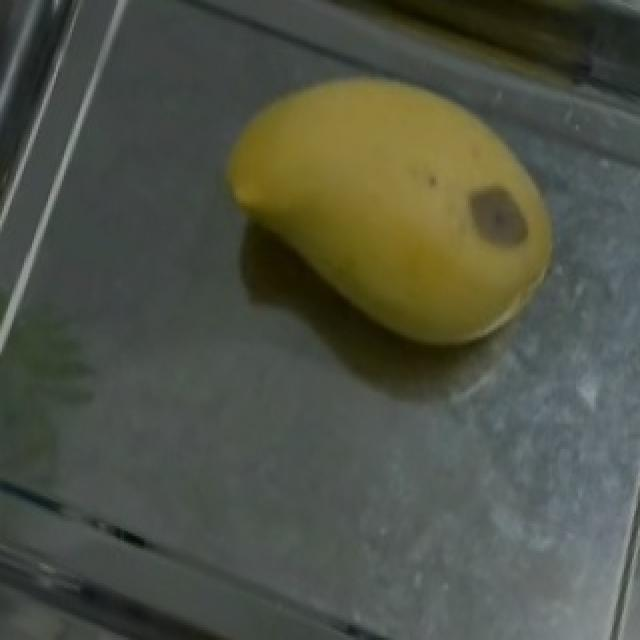fruit: (188, 15, 594, 389)
